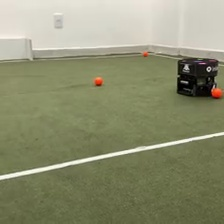ball: (210, 85, 224, 99), (92, 74, 104, 86), (141, 48, 149, 56)
goal: (1, 35, 35, 63)
robot: (175, 54, 220, 99)
